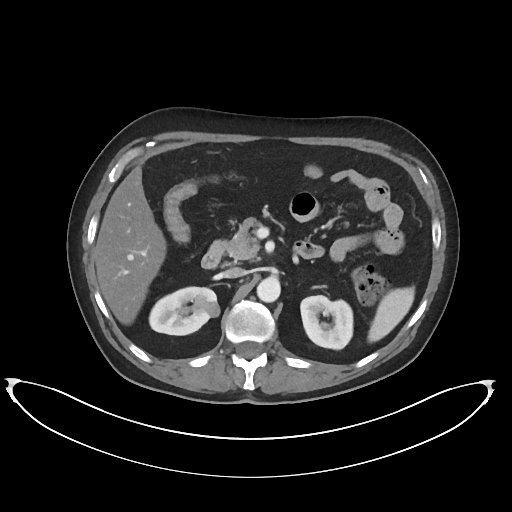Lesion: (201, 297, 222, 322)
